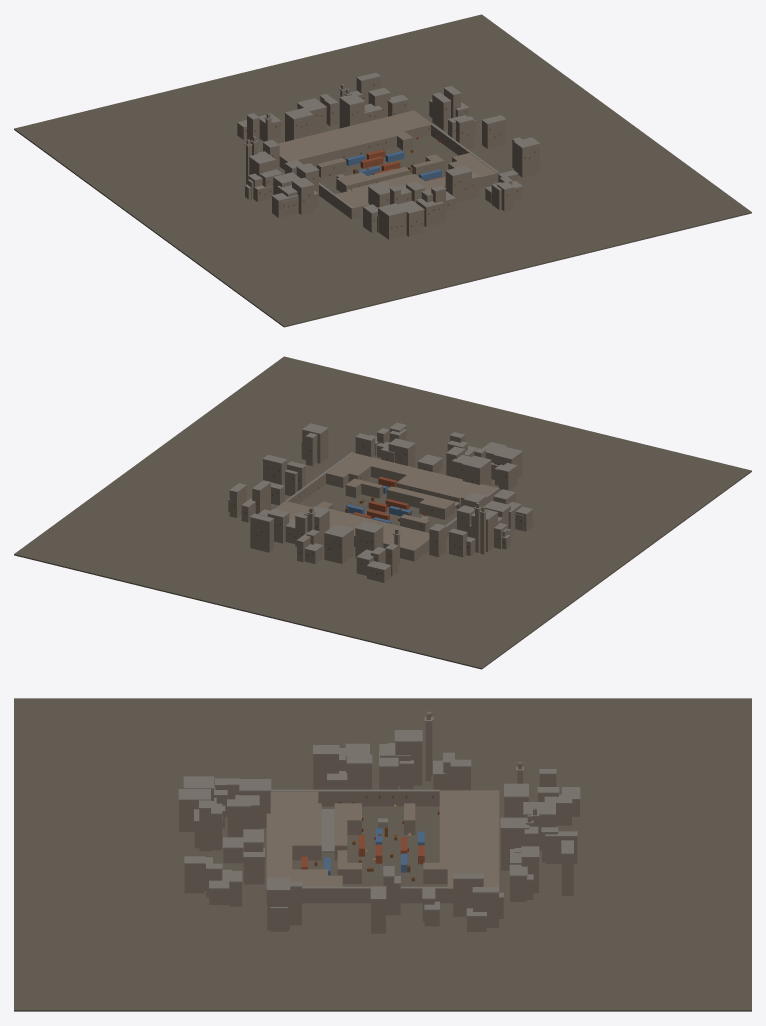
The model's file is de_aq_train.glb.
3 views of the same model, one above another, from view 1: azimuth 30°, elevation 25°; view 2: azimuth 150°, elevation 25°; view 3: azimuth 270°, elevation 25° (orthographic). The views are drawn at different scales.
Visible parts, largest first — view 1: skyline, de_aq_train; view 2: skyline, de_aq_train; view 3: skyline, de_aq_train.
Part boxes in pixels (x1,y1,x2,y2): skyline: [14, 14, 751, 327]; de_aq_train: [278, 110, 499, 219]; skyline: [14, 356, 751, 669]; de_aq_train: [275, 452, 499, 561]; skyline: [14, 698, 751, 1011]; de_aq_train: [266, 789, 499, 903].
Bounding box in the file's own units: 14608 × 1506 × 14608.
